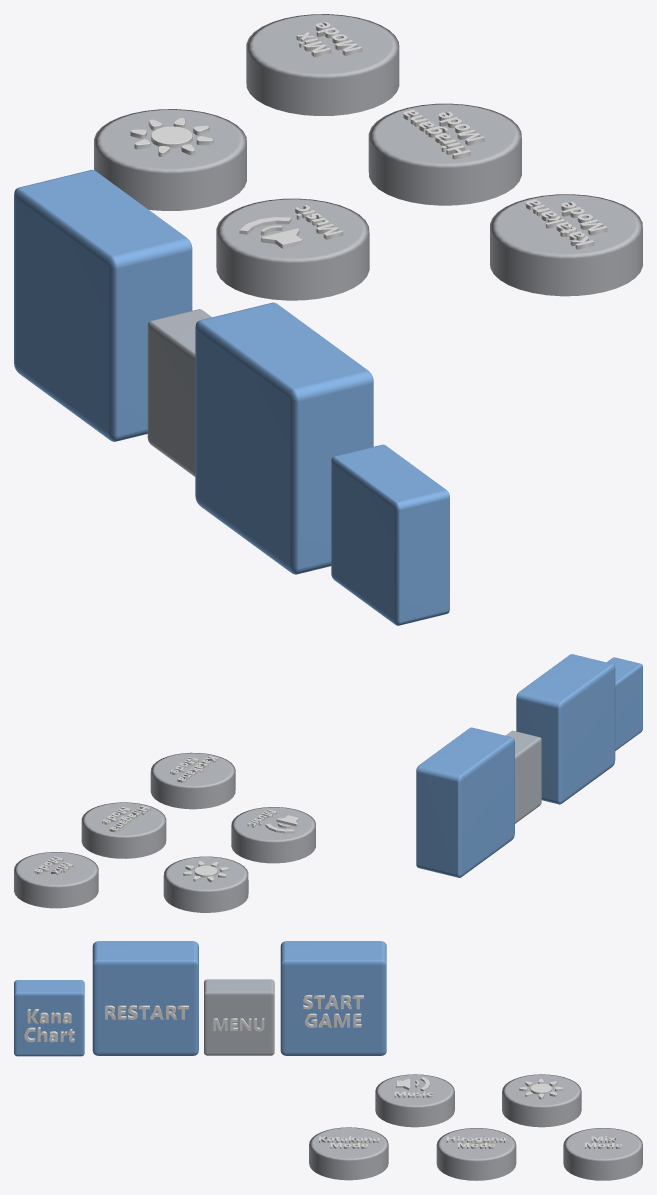
File: UIButtons.fbx
3 renders of one model, top to bottom at view 1: azimuth 30°, elevation 25°; view 2: azimuth 150°, elevation 25°; view 3: azimuth 270°, elevation 25°, orthographic. The views are drawn at different scales.
Parts seen in each view (by area): view 1: LOD0_15.001, LOD0_15.002, LOD0_19, Cylinder_chamfer_Clone__3.001, Cylinder_chamfer_Clone__17.001, Cylinder_chamfer_Clone__7.001, Cylinder_chamfer_Clone__31.001, Cylinder_chamfer_Clone__22.001, LOD0_6.001, _3d_icon_sun_Clone_.001, Text.006, Text.007 (+1 smaller); view 2: LOD0_15.002, LOD0_15.001, Cylinder_chamfer_Clone__3.001, Cylinder_chamfer_Clone__7.001, Cylinder_chamfer_Clone__31.001, Cylinder_chamfer_Clone__22.001, Cylinder_chamfer_Clone__17.001, LOD0_19, LOD0_6.001, Text.007, Text.006, _3d_icon_sun_Clone_.001 (+1 smaller); view 3: LOD0_15.001, LOD0_15.002, LOD0_6.001, LOD0_19, Cylinder_chamfer_Clone__3.001, Cylinder_chamfer_Clone__17.001, Cylinder_chamfer_Clone__7.001, Cylinder_chamfer_Clone__31.001, Cylinder_chamfer_Clone__22.001, Text.005, Text.001, Text.003 (+4 smaller).
Boxes of the visible parts, x1,y1,x2,y2 form: LOD0_15.001: (195,302,373,574); LOD0_15.002: (14,169,192,441); LOD0_19: (331,444,449,625); Cylinder_chamfer_Clone__3.001: (246,14,399,115); Cylinder_chamfer_Clone__17.001: (216,198,369,300); Cylinder_chamfer_Clone__7.001: (368,103,521,205); Cylinder_chamfer_Clone__31.001: (490,194,642,296); Cylinder_chamfer_Clone__22.001: (94,109,246,210); LOD0_6.001: (147,309,211,476); _3d_icon_sun_Clone_.001: (130,118,213,156); Text.006: (525,199,607,249); Text.007: (403,109,484,159); LOD0_15.002: (416,727,514,877); LOD0_15.001: (516,654,615,804); Cylinder_chamfer_Clone__3.001: (14,852,98,908); Cylinder_chamfer_Clone__7.001: (81,802,166,858); Cylinder_chamfer_Clone__31.001: (150,752,235,809); Cylinder_chamfer_Clone__22.001: (163,856,248,912); Cylinder_chamfer_Clone__17.001: (231,807,315,863); LOD0_19: (606,657,642,750); LOD0_6.001: (506,730,541,823); Text.007: (102,805,150,832); Text.006: (170,756,218,782); _3d_icon_sun_Clone_.001: (183,861,228,882); LOD0_15.001: (92,941,198,1055); LOD0_15.002: (280,941,386,1055); LOD0_6.001: (204,979,274,1055); LOD0_19: (14,980,84,1056); Cylinder_chamfer_Clone__3.001: (563,1128,642,1180); Cylinder_chamfer_Clone__17.001: (375,1074,454,1127); Cylinder_chamfer_Clone__7.001: (436,1128,516,1180); Cylinder_chamfer_Clone__31.001: (309,1127,388,1180); Cylinder_chamfer_Clone__22.001: (502,1074,581,1127); Text.005: (303,995,363,1027); Text.001: (24,1009,74,1042); Text.003: (105,1005,188,1019).
Size of what is drawn, in the model's own units: 63.08 by 19.13 by 113.
